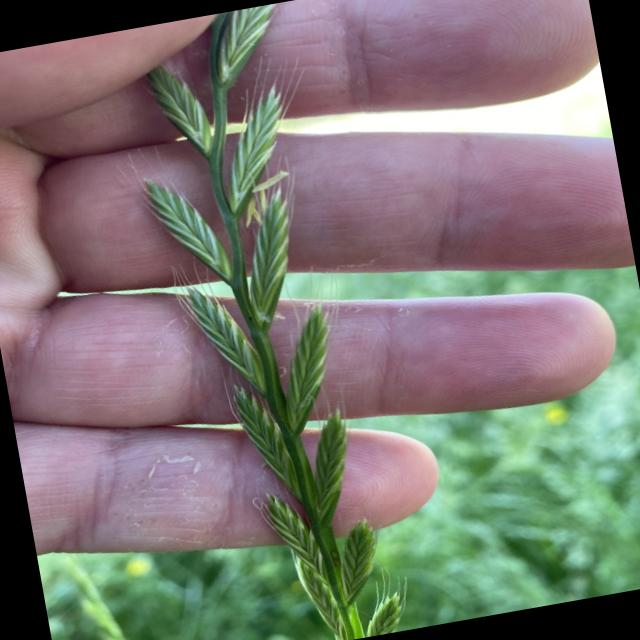Lolium: (107, 0, 416, 640)
